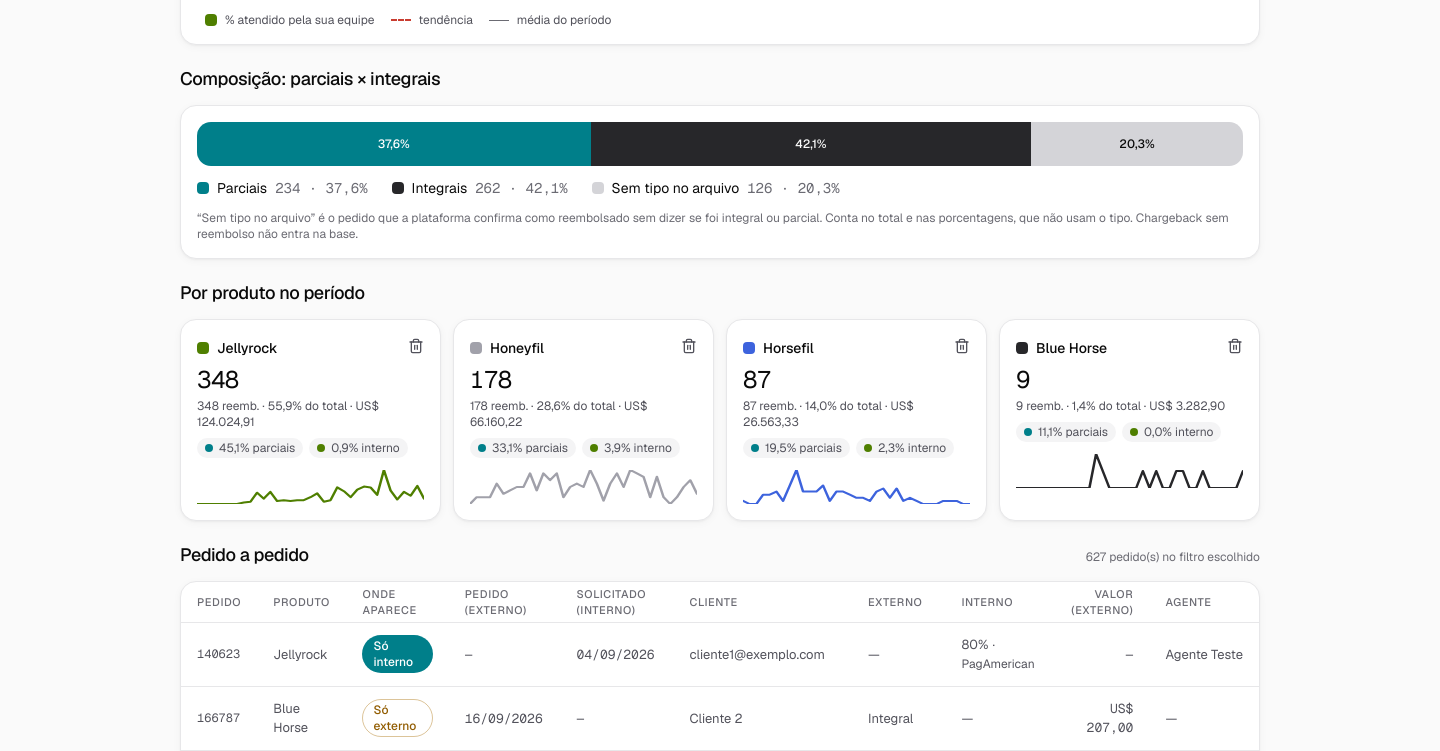
DashboardRefundsComparativo › cartão de produto tem lixeira que pede confirmação antes de apagar
(page scrolled)
Click the button named "Apagar reembolsos externos de Jellyrock". click: click(416, 346)
box: [402, 332, 430, 360]
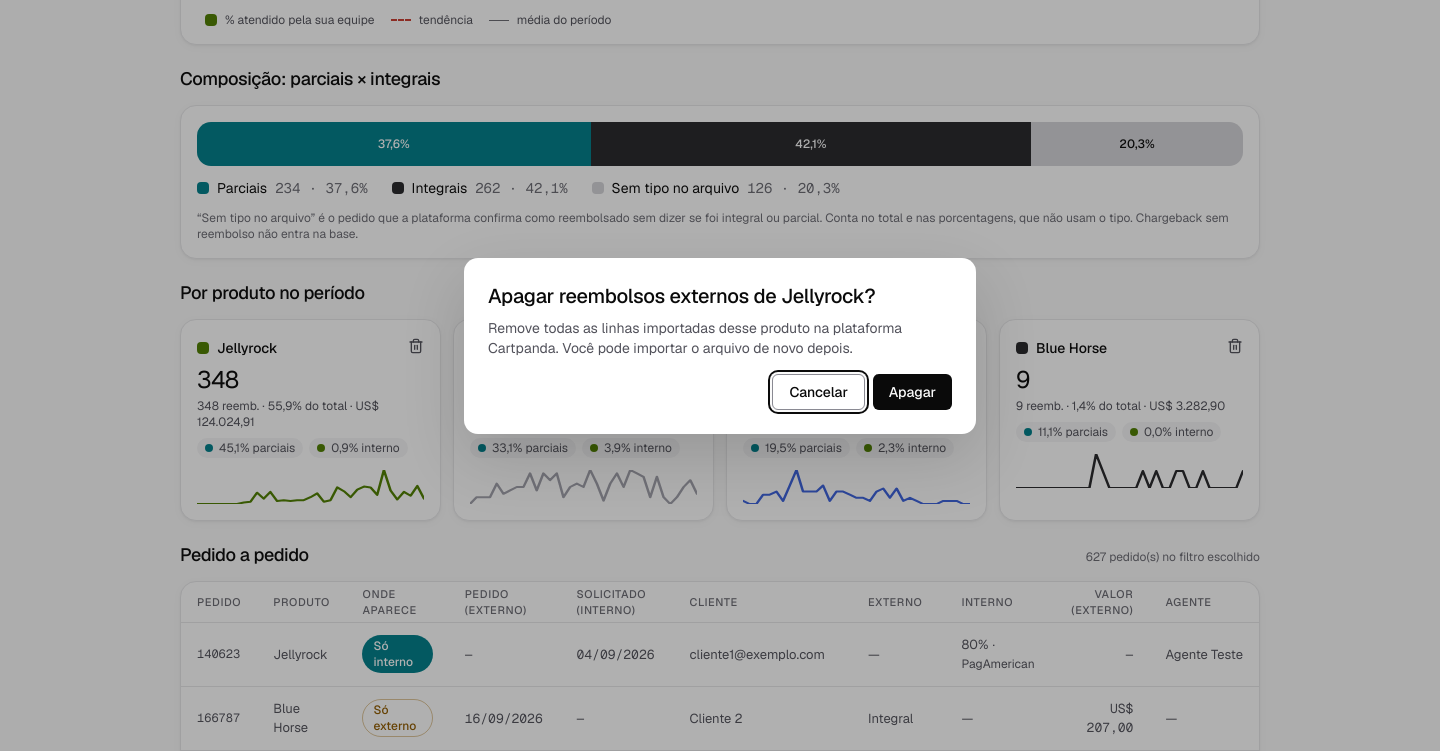
expect the heading "Apagar reembolsos externos de Jellyrock?" is shown: met, box [488, 283, 875, 309]
